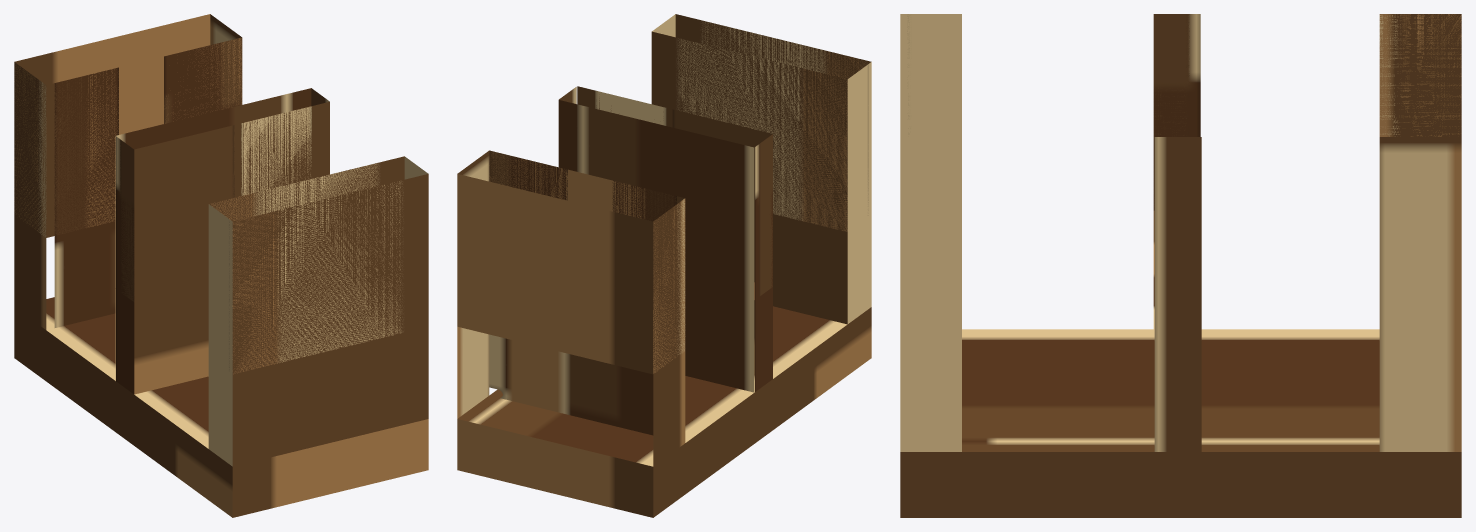
Rendered from section-7.obj.
3 views of the same model, side by side, from view 1: azimuth 30°, elevation 25°; view 2: azimuth 150°, elevation 25°; view 3: azimuth 270°, elevation 25° (orthographic). The views are drawn at different scales.
Size of the model in its own units: 0.3912 by 0.5656 by 0.7552.
